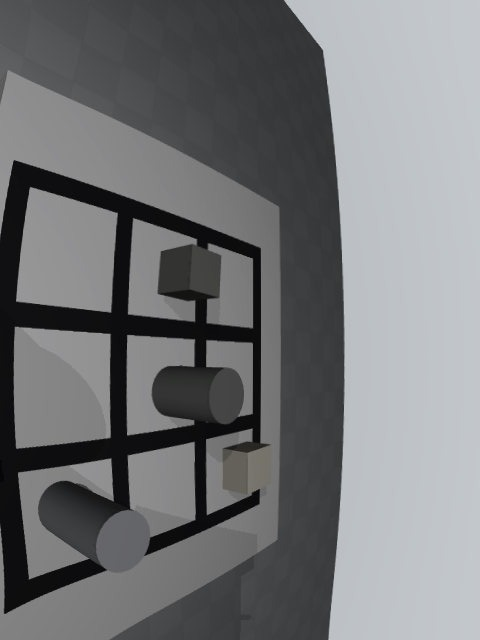can: (38, 481, 150, 573)
cube: (157, 244, 221, 302)
cylinder: (152, 366, 244, 424)
foam: (223, 441, 272, 494)
